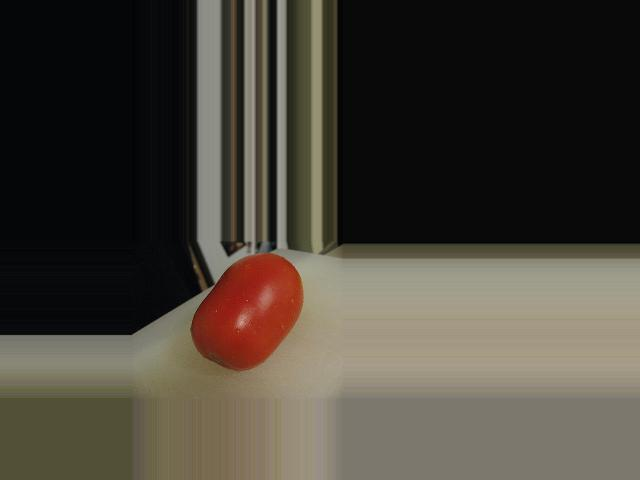tomato: (191, 252, 303, 370)
